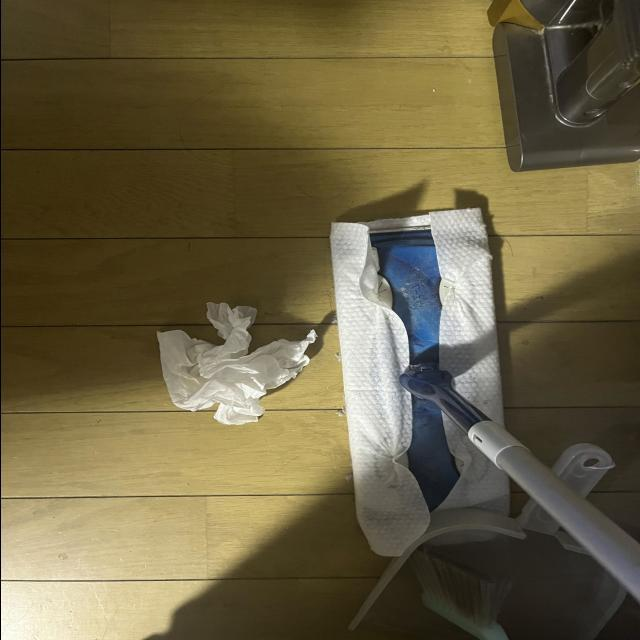Paper: (152, 302, 318, 448)
